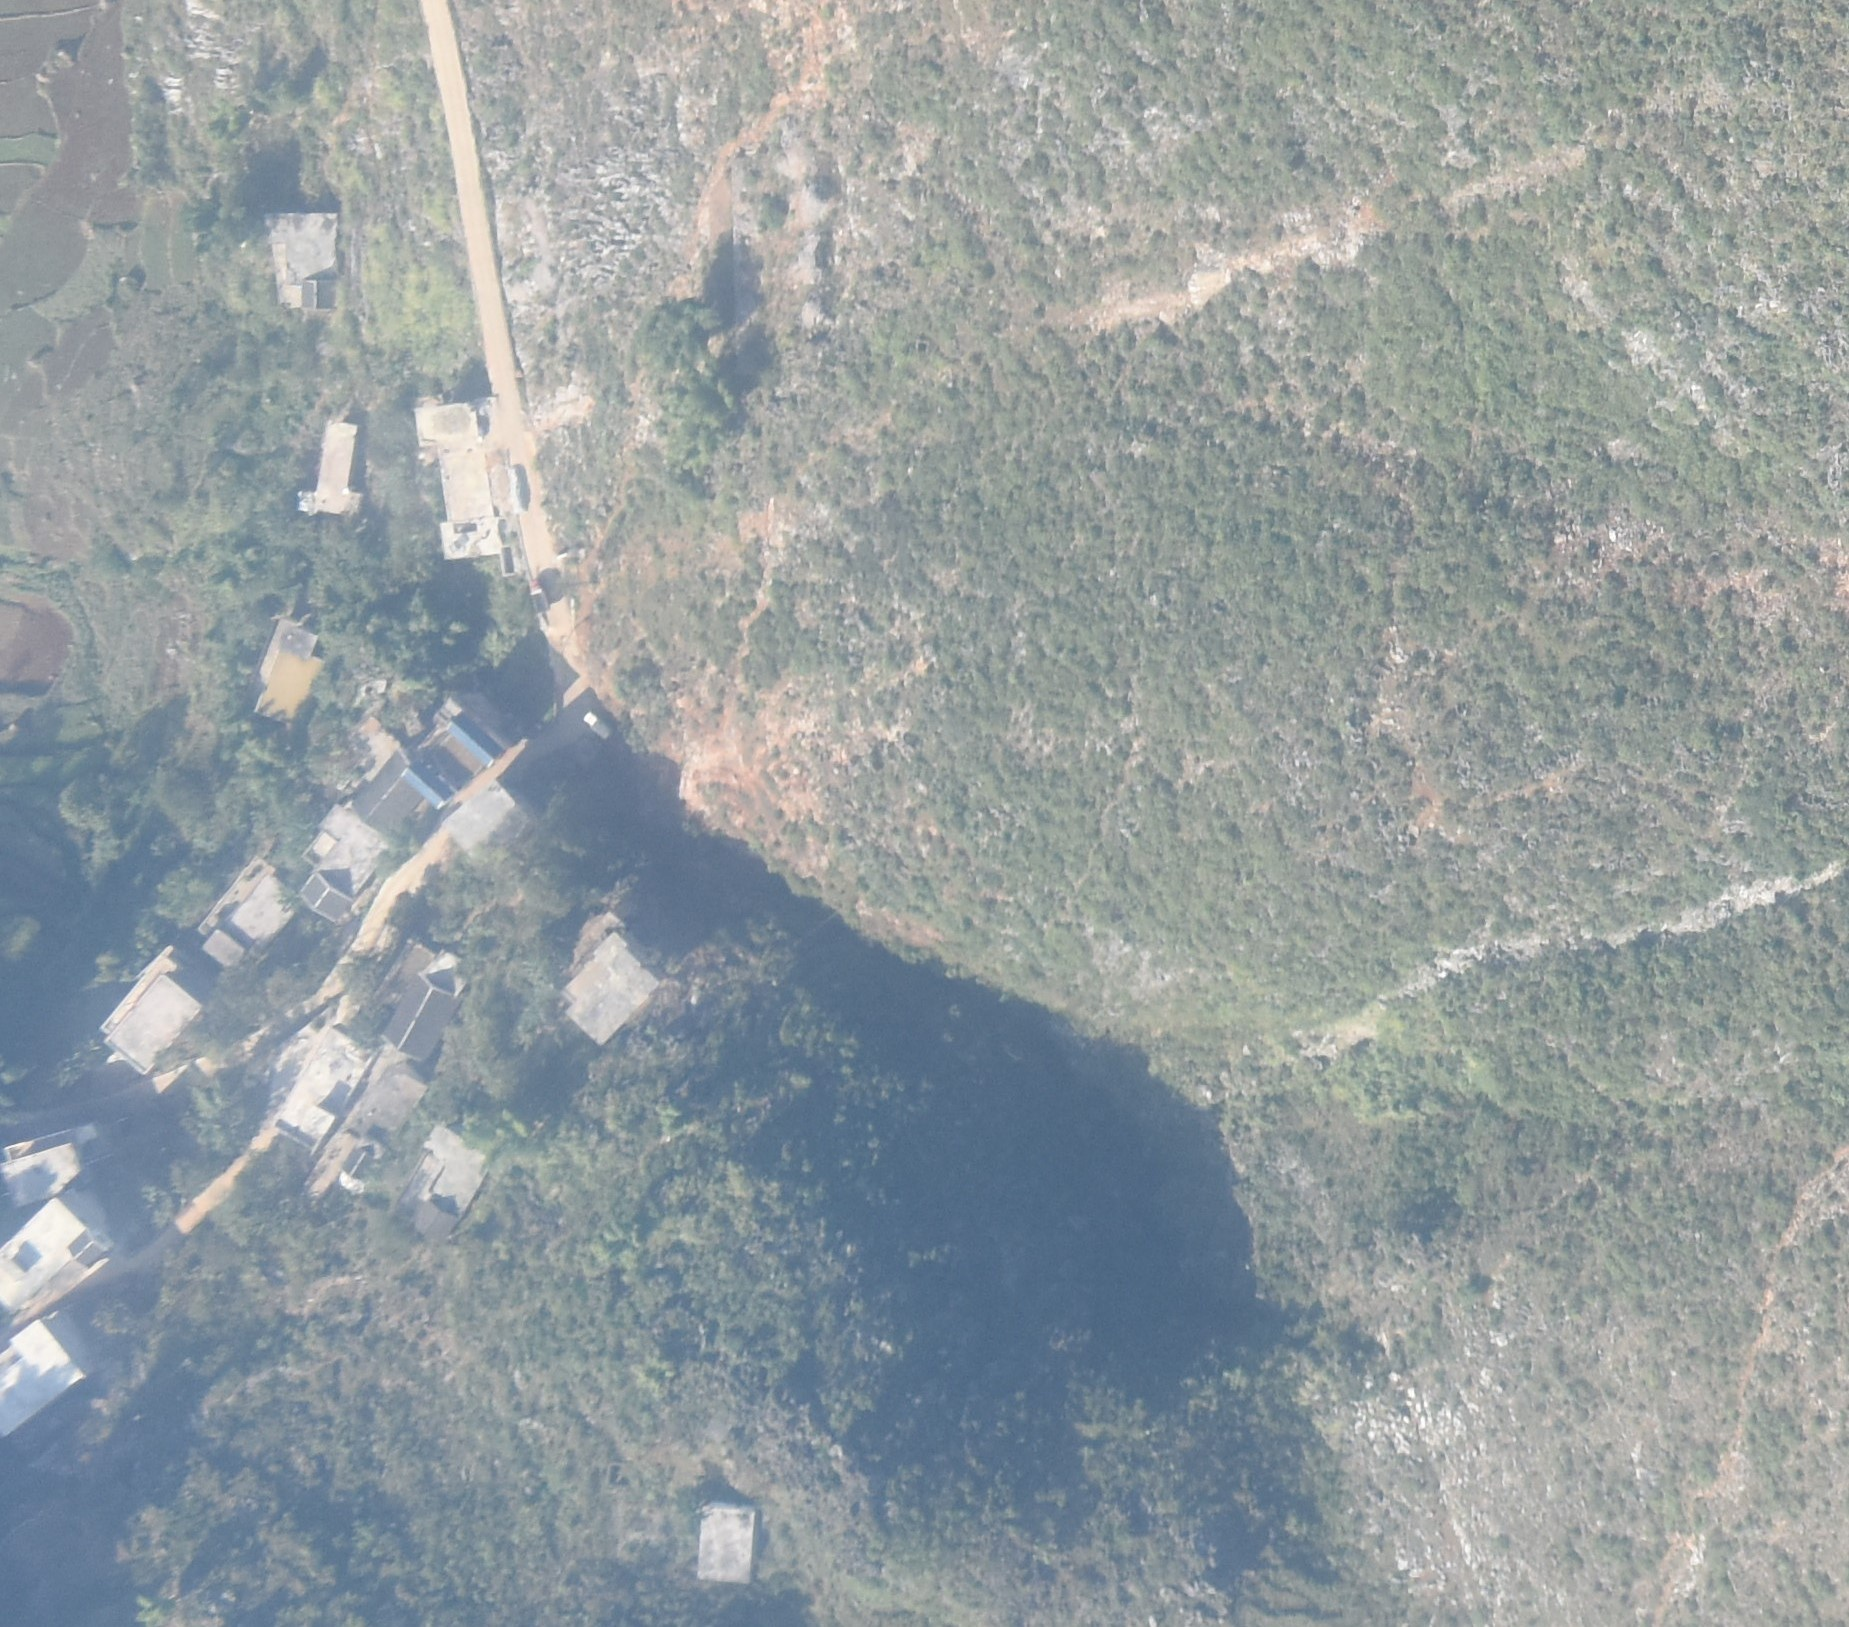building: (443, 784, 594, 946), (2, 1196, 123, 1333), (414, 401, 506, 564), (99, 943, 201, 1078), (274, 1023, 380, 1148), (299, 802, 396, 921), (396, 1122, 494, 1240), (563, 931, 660, 1045), (203, 860, 302, 971), (2, 1316, 86, 1435), (340, 1072, 429, 1181), (2, 1124, 112, 1207), (253, 618, 329, 726), (259, 212, 338, 313), (354, 753, 434, 841), (387, 971, 461, 1063), (299, 420, 363, 519), (698, 1501, 755, 1583), (447, 715, 500, 769), (403, 764, 451, 810)
vehicle: (583, 707, 613, 739)
